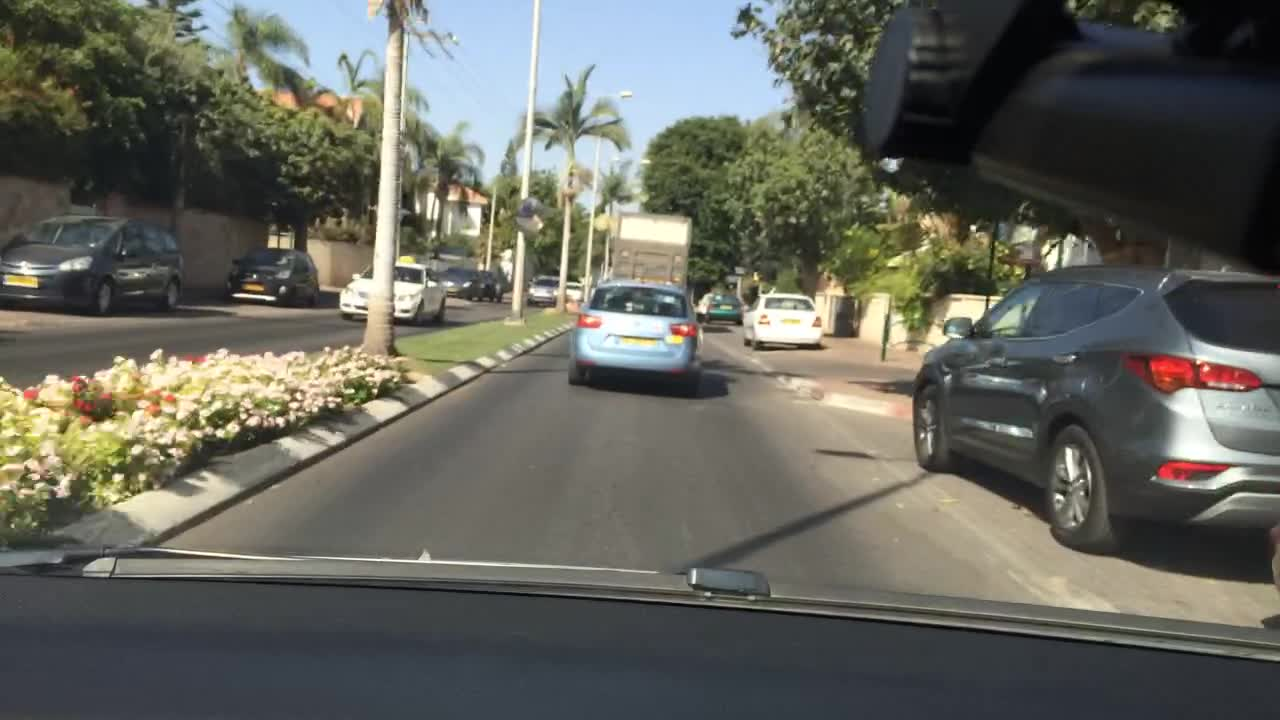car: (908, 262, 1279, 557), (0, 212, 185, 316), (565, 281, 701, 392), (341, 260, 450, 328), (227, 246, 325, 308), (741, 289, 825, 351), (436, 265, 486, 297), (695, 292, 743, 325), (527, 271, 564, 301), (481, 267, 503, 299), (564, 279, 584, 301)
truck: (606, 206, 693, 294)
